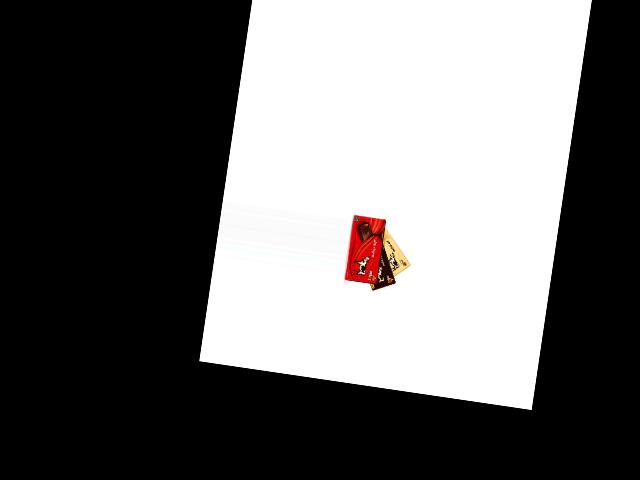chocolate: (371, 220, 417, 286)
